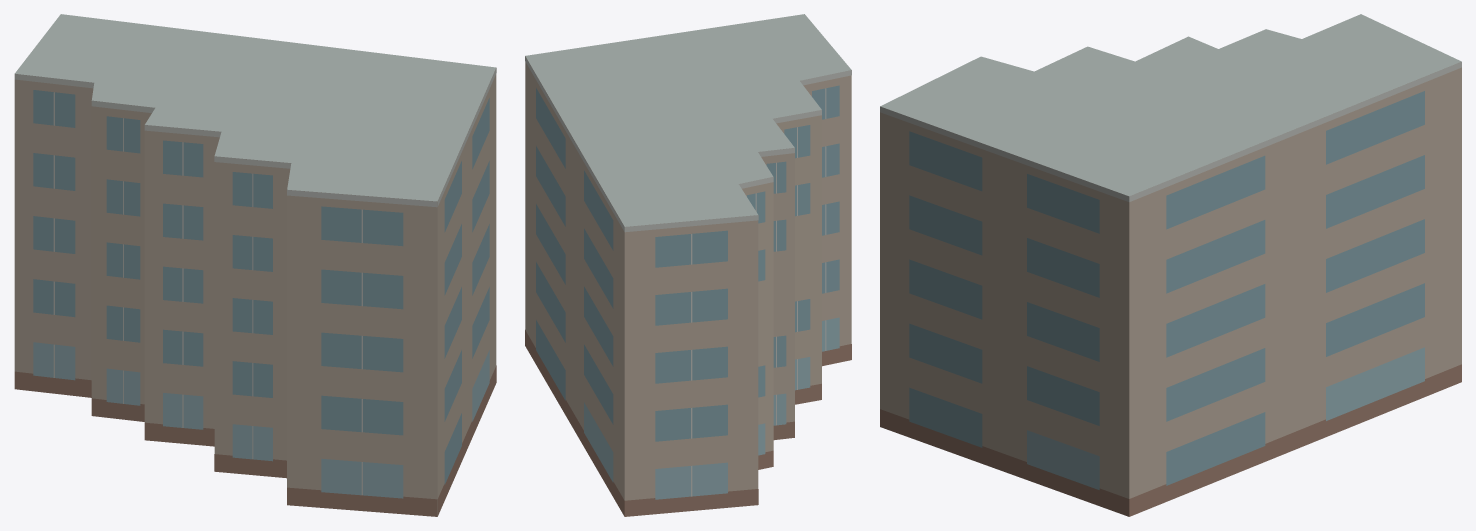
File: survey-upis-33014679.glb
3 views of the same model, side by side, from view 1: azimuth 30°, elevation 25°; view 2: azimuth 150°, elevation 25°; view 3: azimuth 270°, elevation 25° (orthographic). The views are drawn at different scales.
Visible parts, largest first — view 1: survey-upis-33014679.tmp; view 2: survey-upis-33014679.tmp; view 3: survey-upis-33014679.tmp.
Boxes of the visible parts, <box> form: survey-upis-33014679.tmp: <box>14,14,496,516</box>; survey-upis-33014679.tmp: <box>525,14,851,516</box>; survey-upis-33014679.tmp: <box>880,14,1461,516</box>.
Size of the model in its own units: 16.24 by 13.3 by 21.89.
